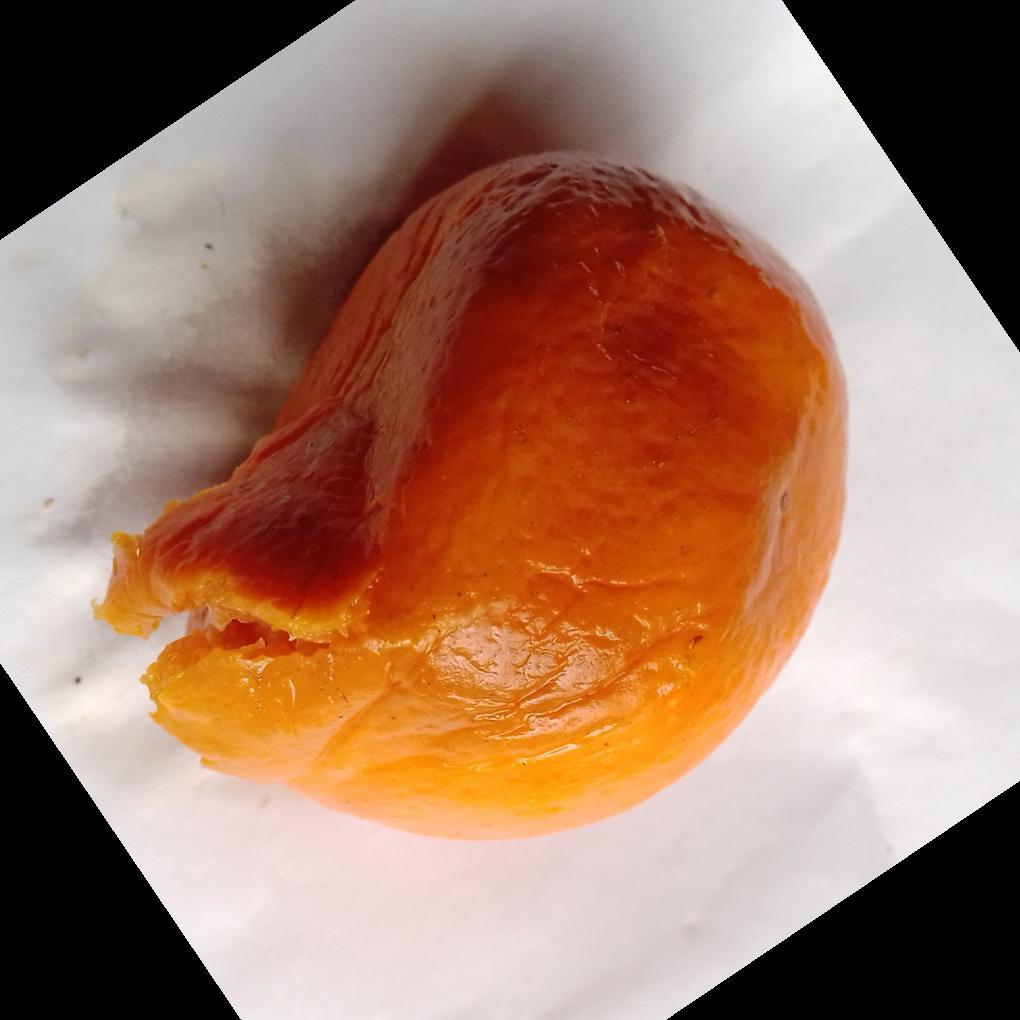FreshOrange: (91, 151, 849, 846)
